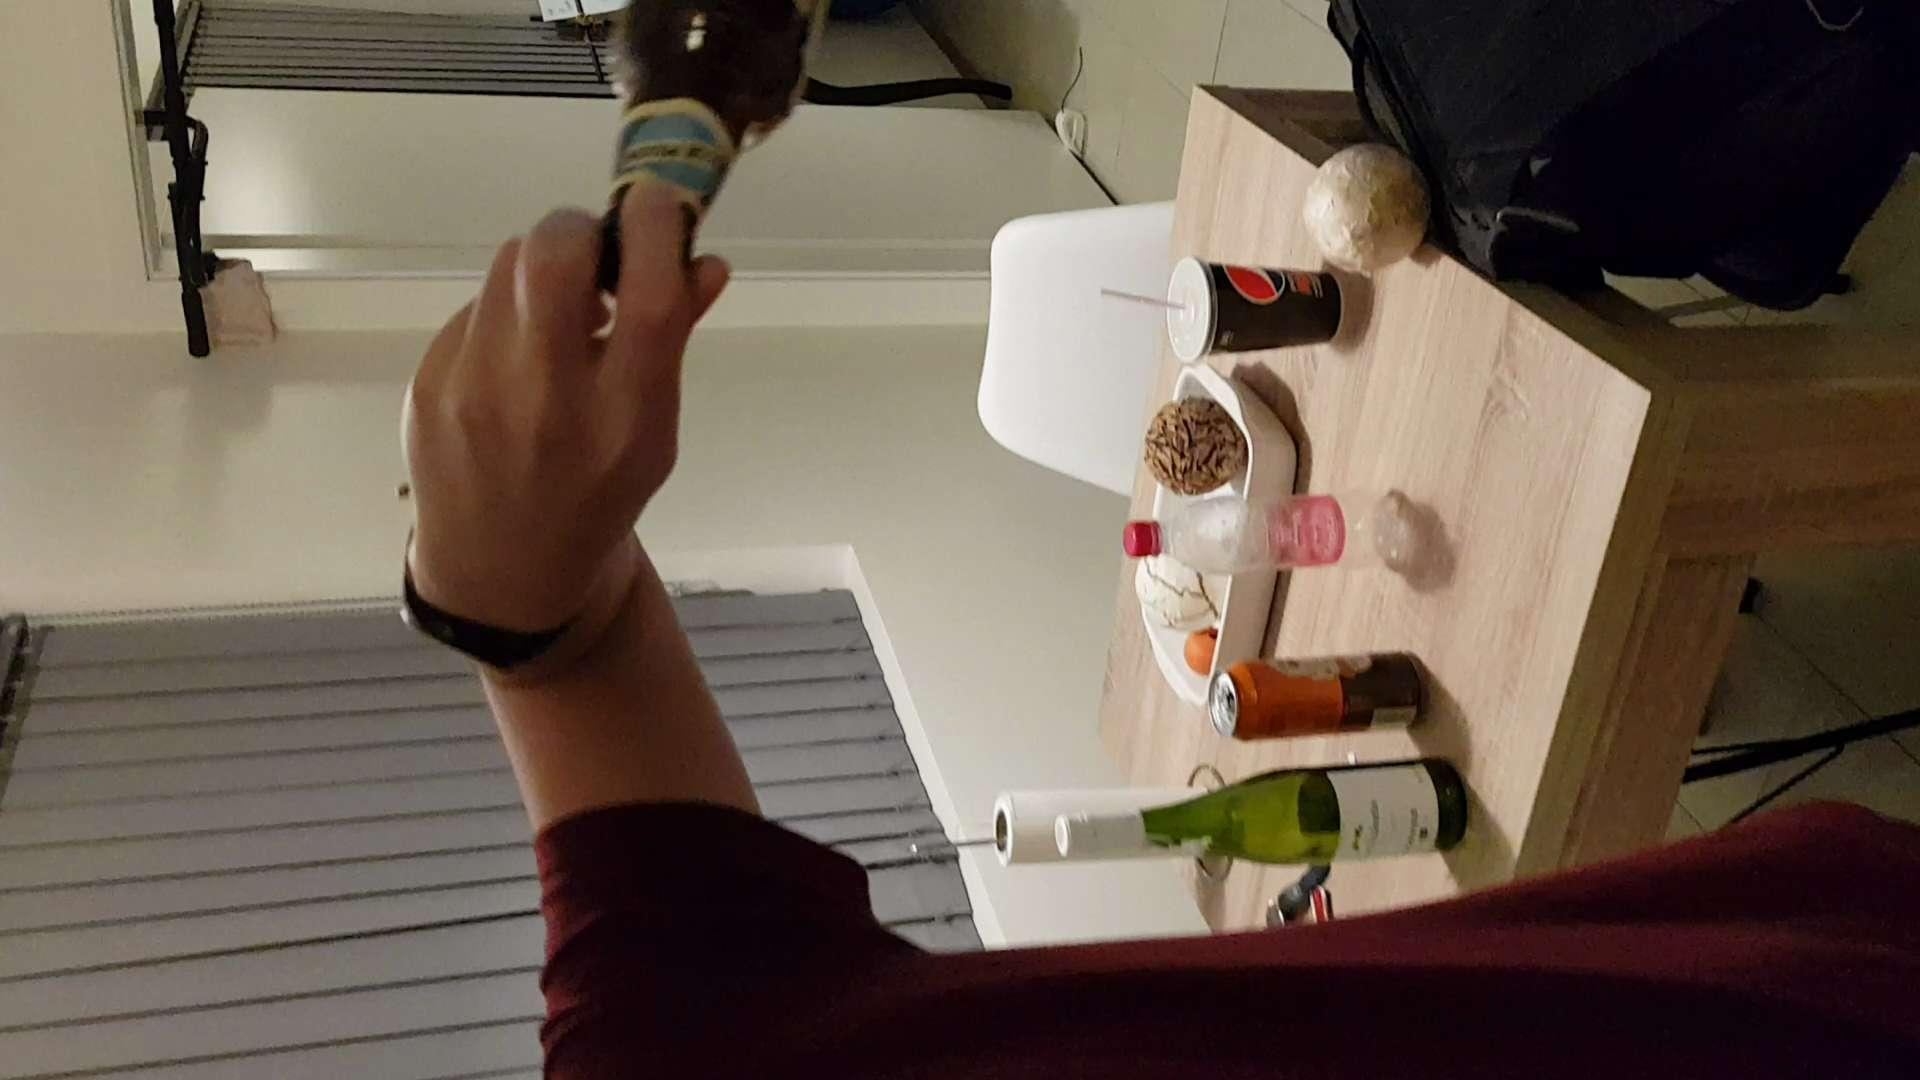Bottle: (1040, 756, 1466, 878), (1126, 476, 1429, 582)
Can: (1215, 645, 1427, 741)
Sphere: (1295, 142, 1443, 284), (1129, 393, 1255, 493)
